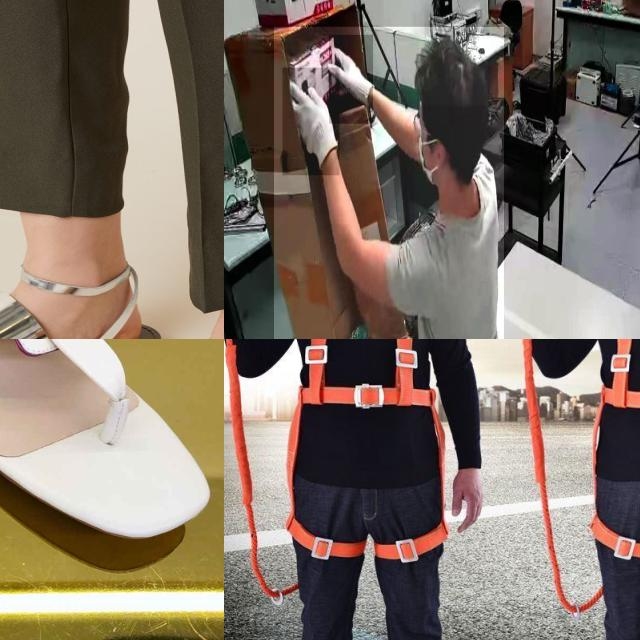Harness: (284, 339, 446, 562), (589, 339, 640, 559)
Sandals: (0, 339, 212, 572)
hand_glove: (282, 68, 340, 175), (329, 34, 373, 124)
head_nohelmet: (419, 35, 489, 107)
person: (273, 26, 504, 339)
